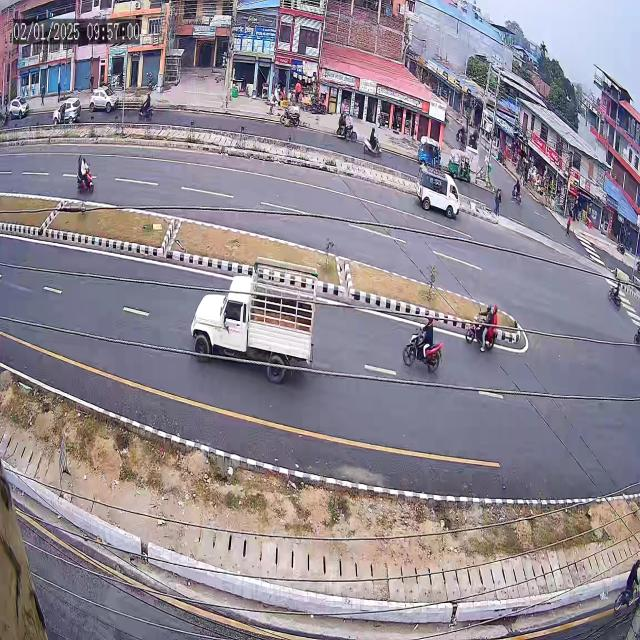motorcycle: (400, 303, 445, 391), (461, 292, 500, 364), (68, 150, 100, 202)
